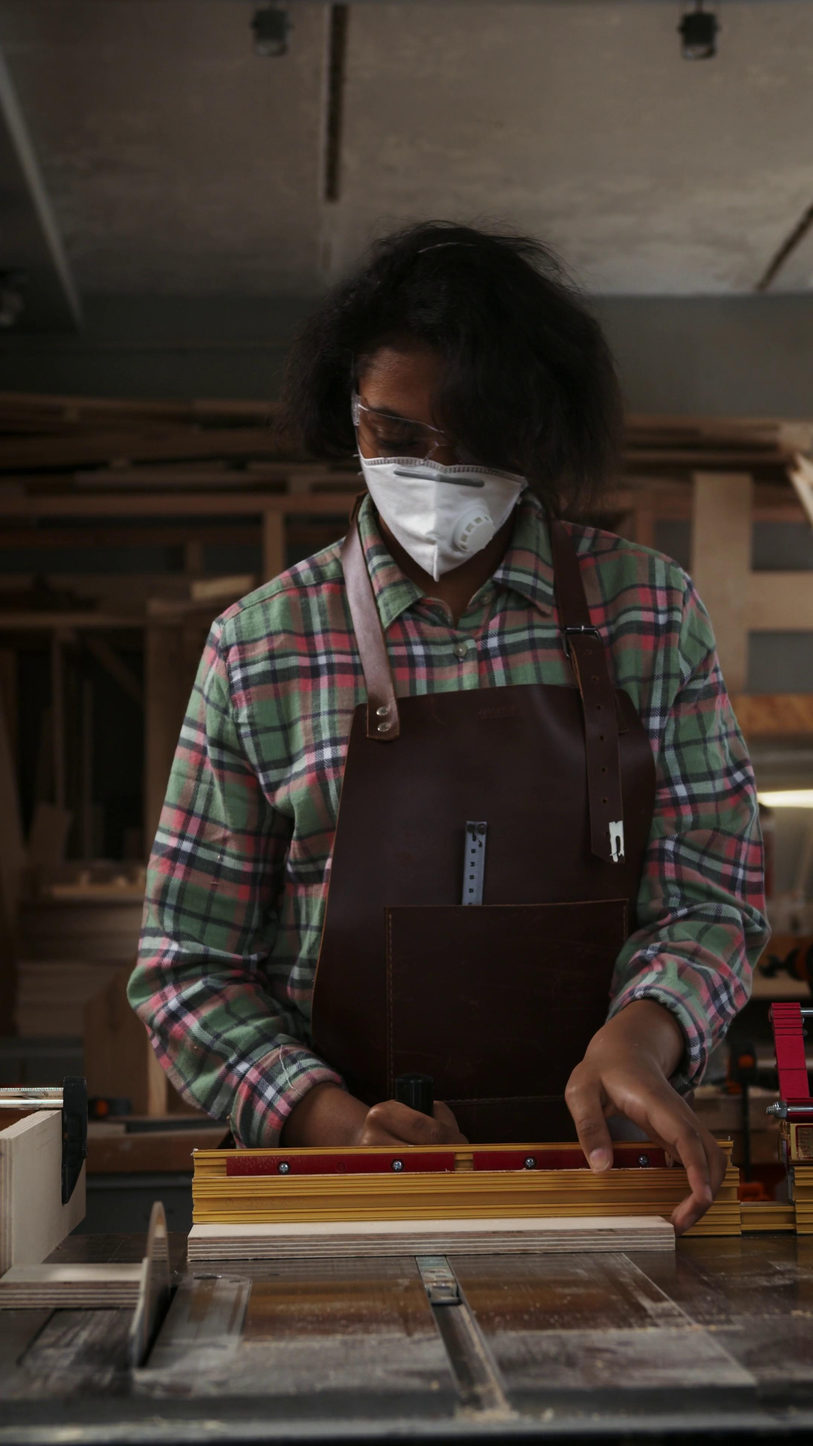mask: (358, 455, 527, 582)
person: (124, 219, 773, 1233)
